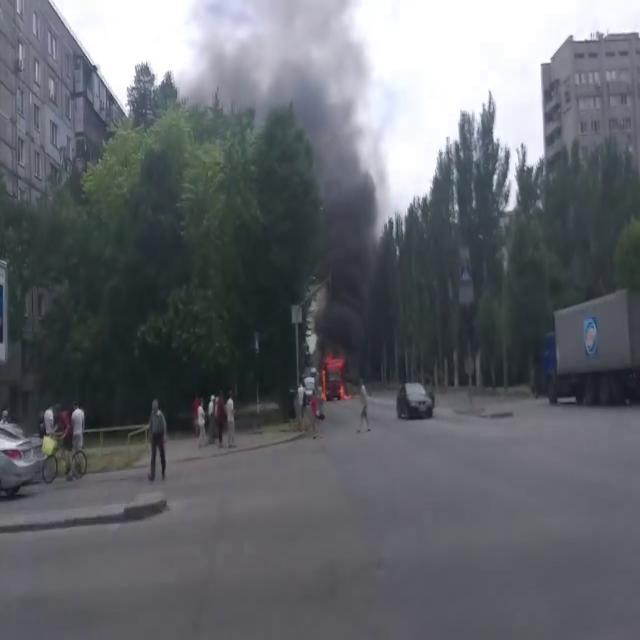Fire: (320, 350, 350, 404)
Smoke: (281, 2, 394, 346)
